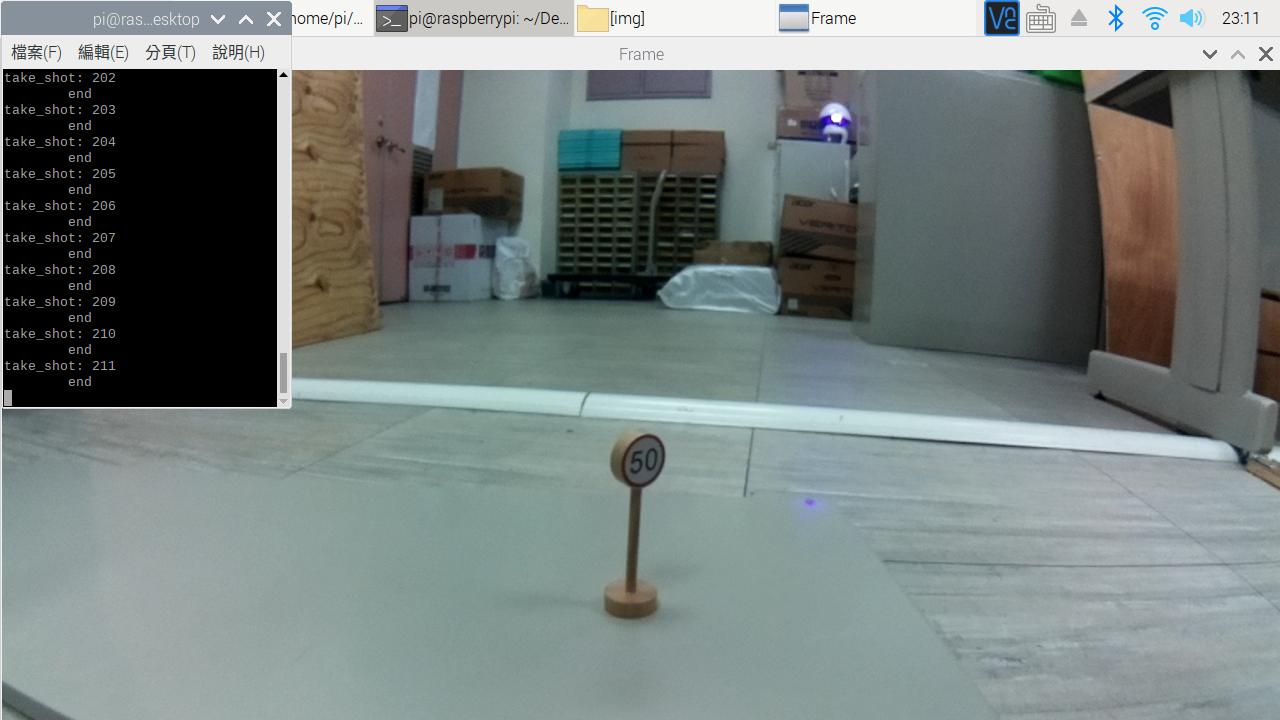Speed50: (605, 422, 683, 509)
